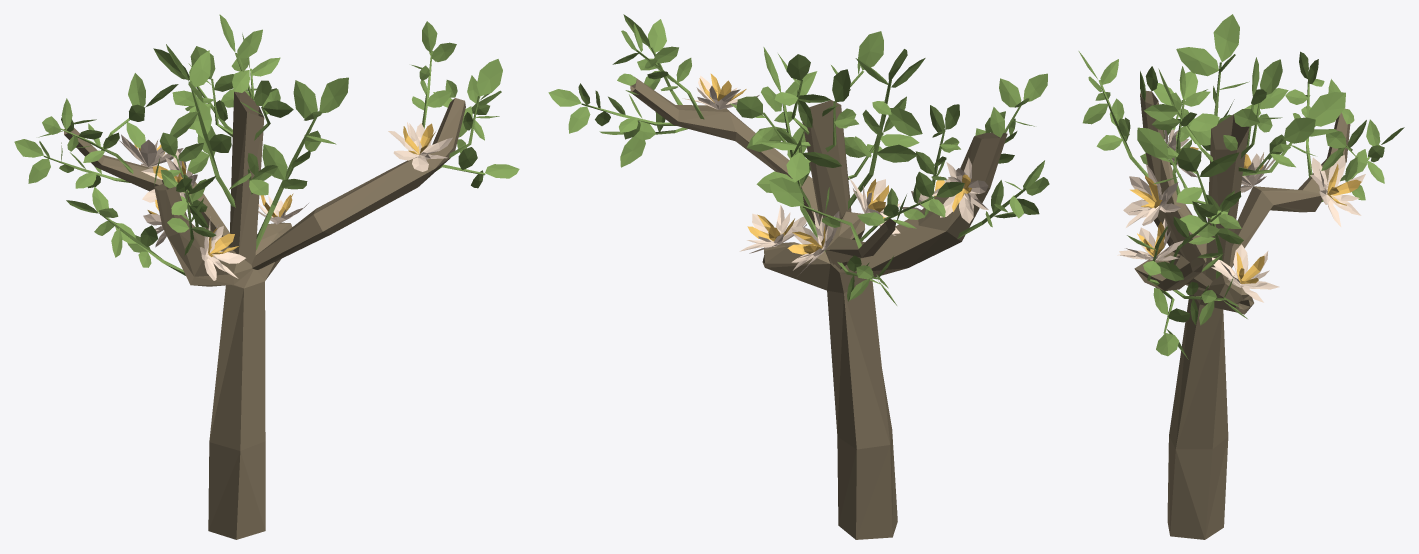
Rendered from Apple_4_2.fbx.
3 renders of one model, left to right at view 1: azimuth 30°, elevation 25°; view 2: azimuth 150°, elevation 25°; view 3: azimuth 270°, elevation 25°, orthographic. The views are drawn at different scales.
Parts seen in each view (by area): view 1: Apple_4_2; view 2: Apple_4_2; view 3: Apple_4_2.
Boxes of the visible parts, bbox=[...] form: Apple_4_2: bbox=[14, 14, 519, 539]; Apple_4_2: bbox=[548, 14, 1049, 539]; Apple_4_2: bbox=[1078, 14, 1404, 539].
Bounding box in the file's own units: 322 × 326 × 197.
